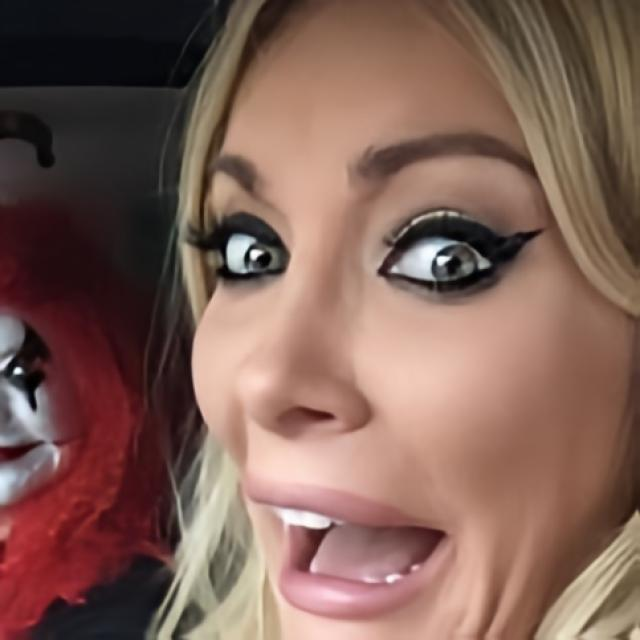surprise: (187, 2, 640, 640)
